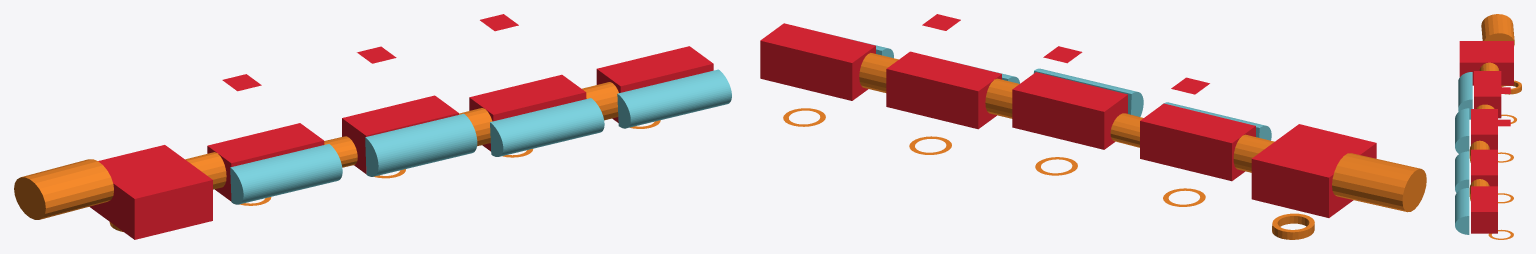
The model's file is tinker.obj.
3 renders of one model, left to right at view 1: azimuth 30°, elevation 25°; view 2: azimuth 150°, elevation 25°; view 3: azimuth 270°, elevation 25°, orthographic. The views are drawn at different scales.
Parts seen in each view (by area): view 1: group_0_15277357, group_0_7720667, group_0_16089887; view 2: group_0_15277357, group_0_16089887, group_0_7720667; view 3: group_0_15277357, group_0_7720667, group_0_16089887.
Part boxes in pixels (bbox=[...]): group_0_15277357: bbox=[89, 14, 713, 239]; group_0_7720667: bbox=[230, 69, 731, 204]; group_0_16089887: bbox=[14, 82, 660, 231]; group_0_15277357: bbox=[760, 14, 1376, 217]; group_0_16089887: bbox=[783, 53, 1426, 239]; group_0_7720667: bbox=[830, 34, 1271, 140]; group_0_15277357: bbox=[1459, 41, 1513, 233]; group_0_7720667: bbox=[1455, 72, 1472, 234]; group_0_16089887: bbox=[1469, 14, 1521, 239].
Size of the model in its own units: 273 by 50.94 by 42.
